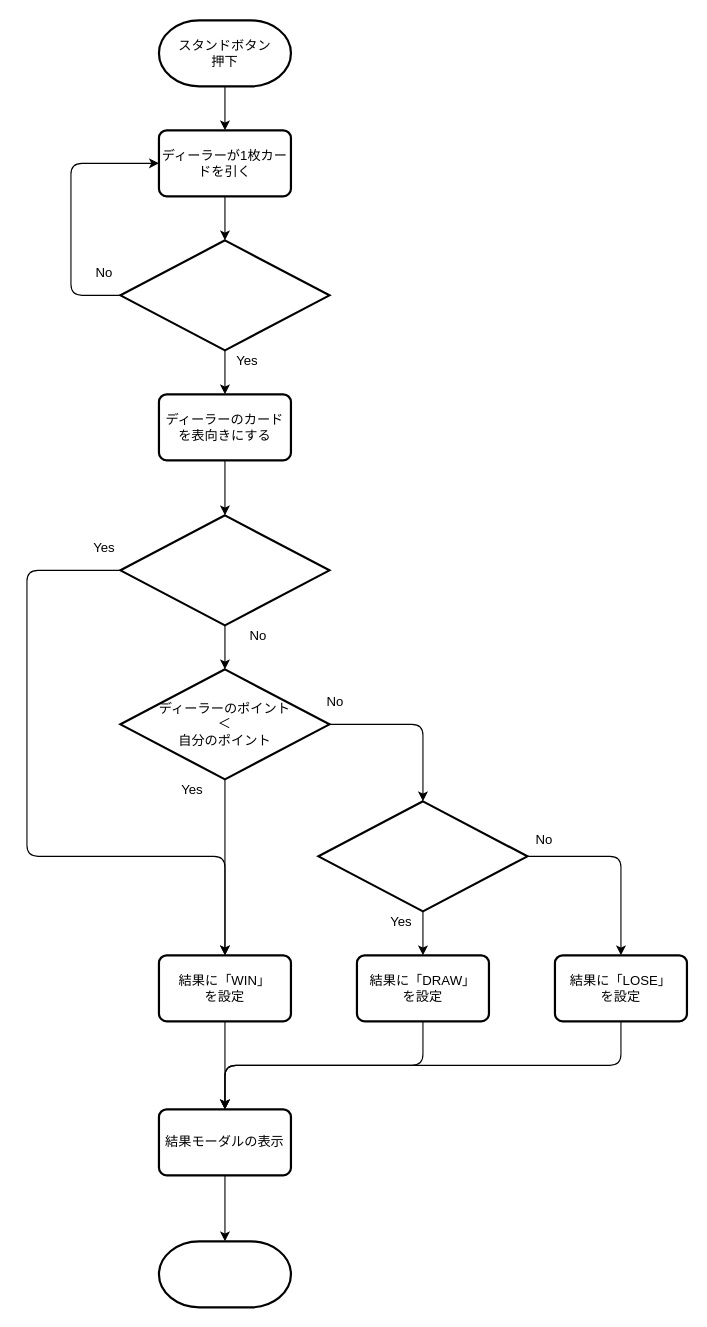
The diagram is 707 pixels wide and 1327 high, and some of its shapes have lost their labels. Here are the shapes that lost their labels. From the top down, the box of each, then its label:
(119, 239, 330, 351): ディーラーのポイントが 17点以上
(119, 514, 330, 626): ディーラーのポイント ≧ 22
(317, 800, 528, 912): ディーラーのポイント = 自分のポイント
(157, 1240, 292, 1308): スタンドボタン 処理終了
